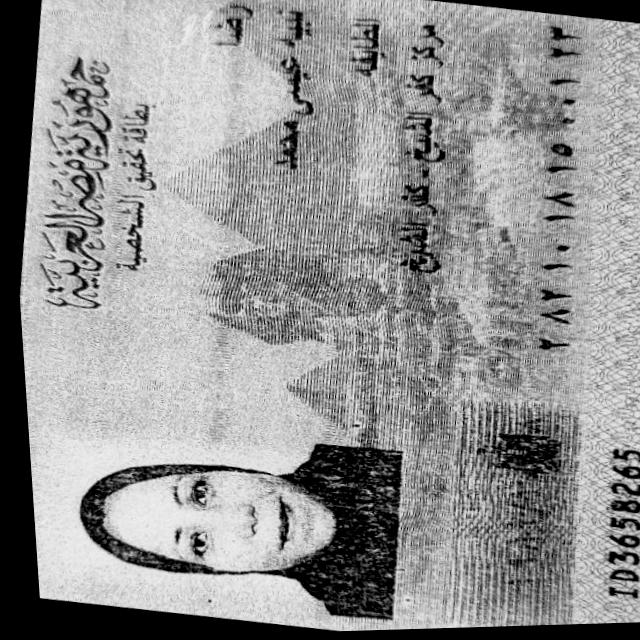front: (20, 0, 640, 631)
